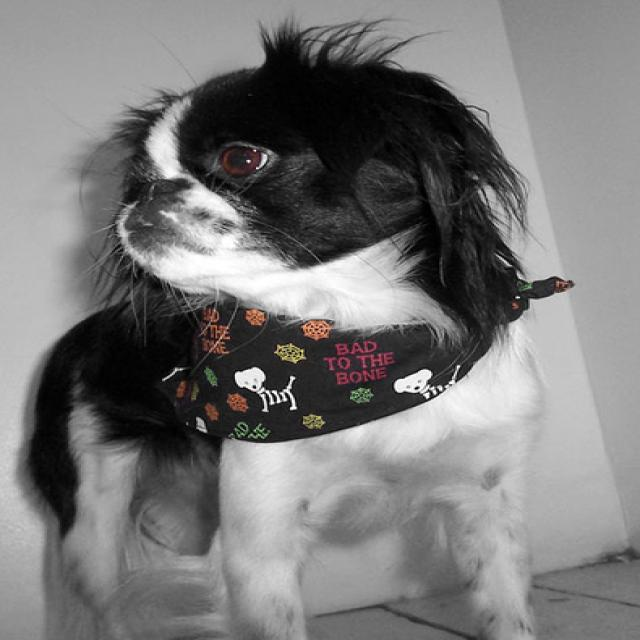dog: (115, 62, 481, 294)
